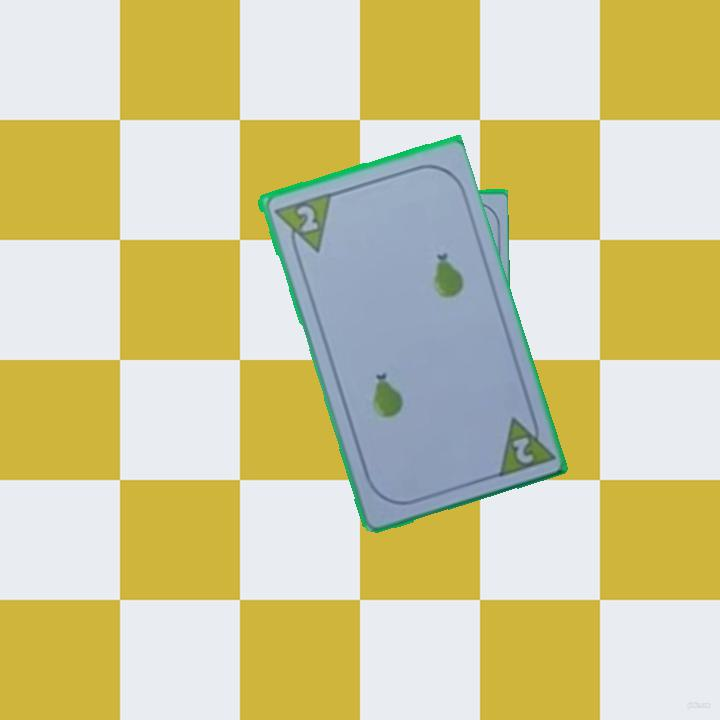2p: (269, 189, 333, 260), (508, 432, 536, 467)
